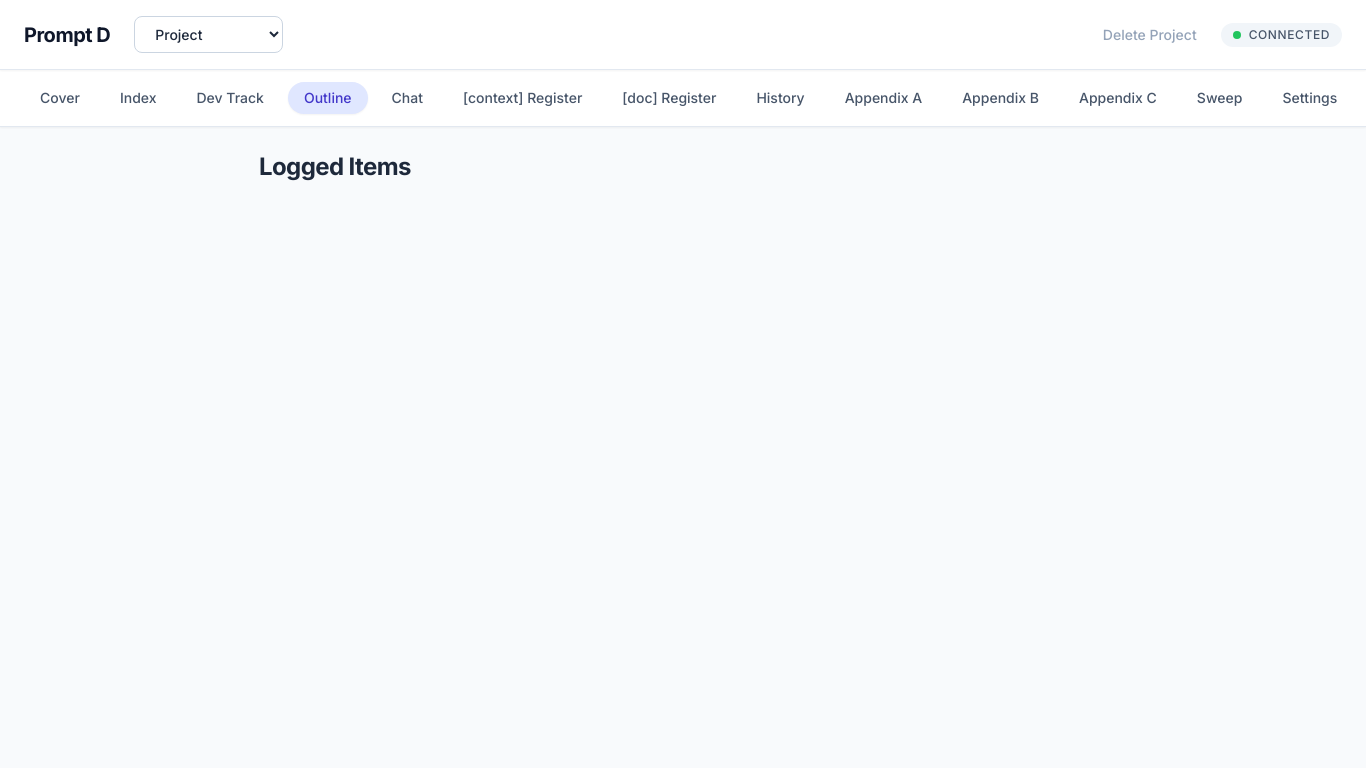
Test: IPC Serialization and AI Conversation Flow › passes a serializable array to generateAI (not a function) when inferred logging is ON
Note: Navigate to Chat
Step 1. Click the button "Chat" → (407, 98), box [376,82,439,114]
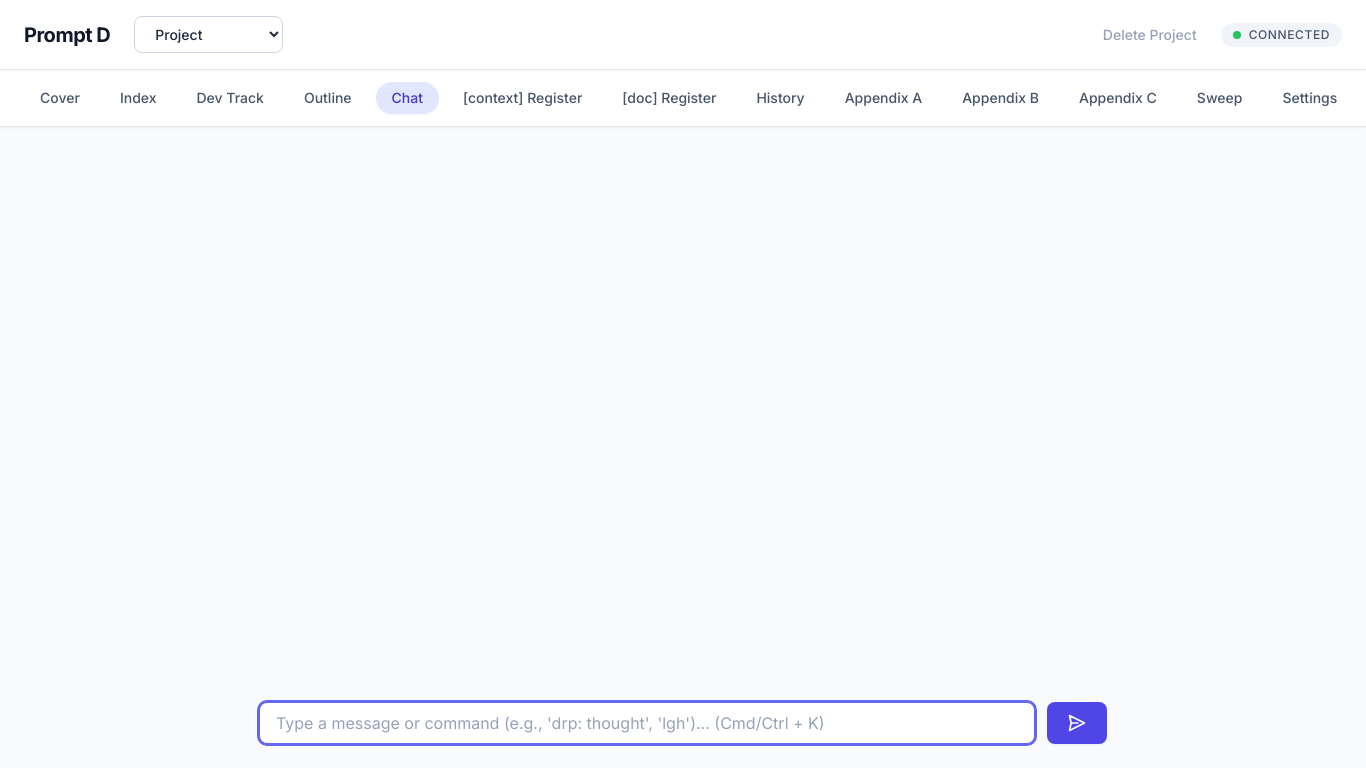
Result: the field with placeholder "Type a message or command" is shown
Note: Send a plain chat message
Step 2. Replace the text in the field with placeholder "Type a message or command" with "Hello AI" → (647, 723), box [259,702,1035,744]
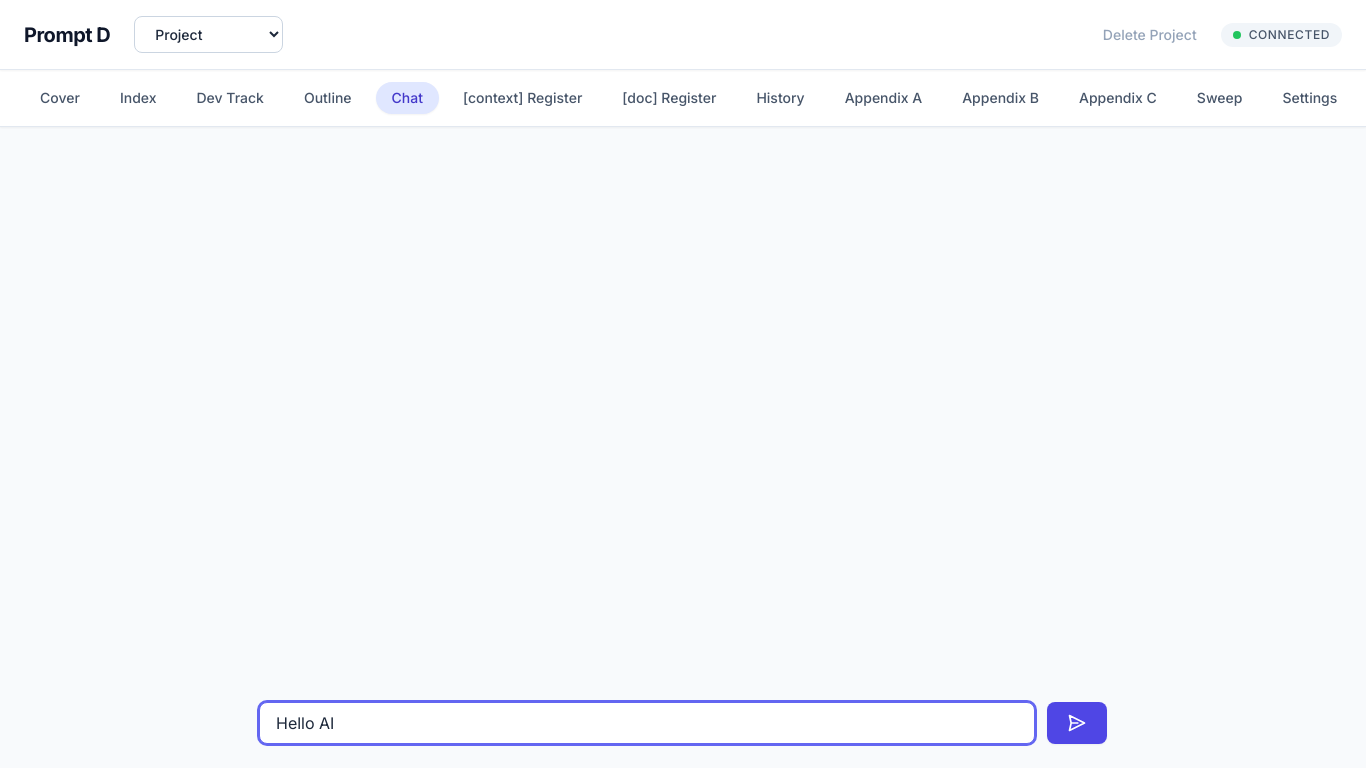
Step 3. Submit the form with placeholder "Type a message or command", box [259,702,1107,744]
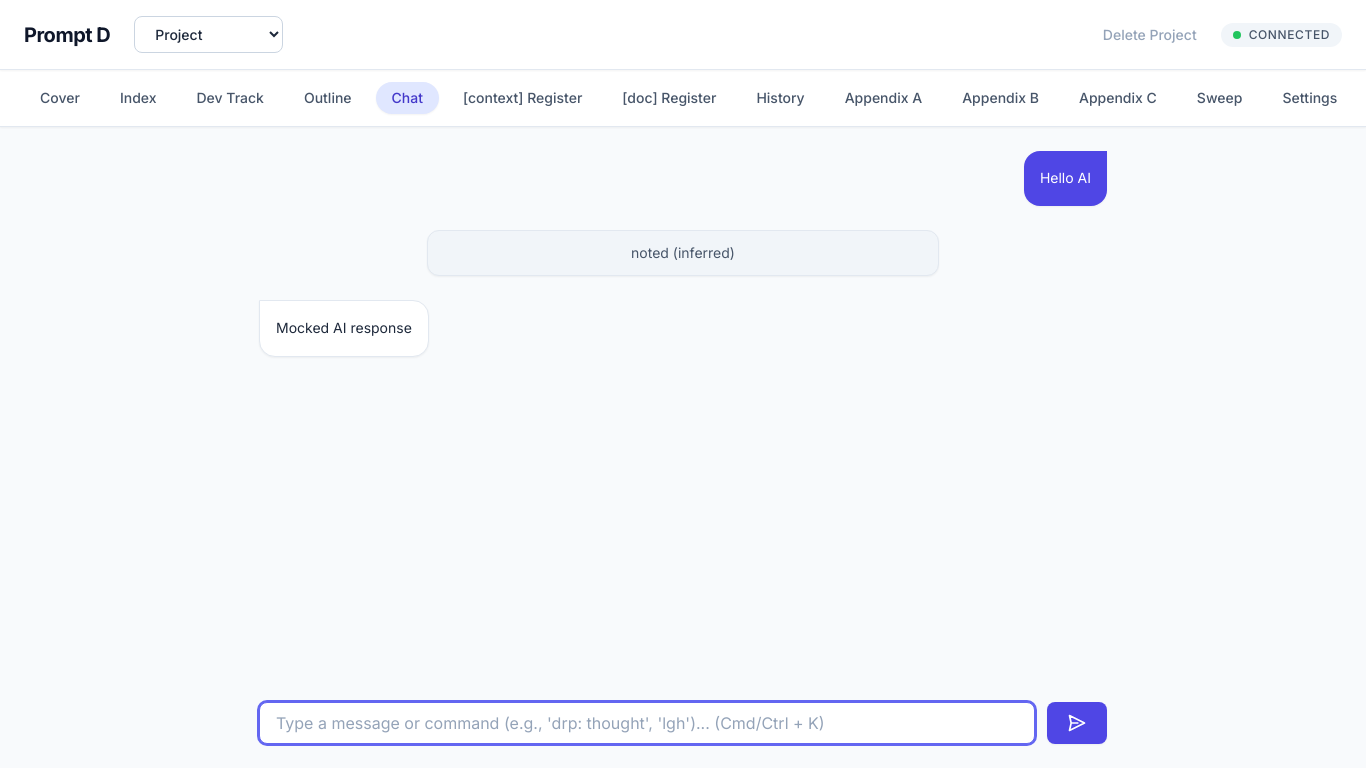
Result: the text "Mocked AI response" is shown at [259,300,429,357]
